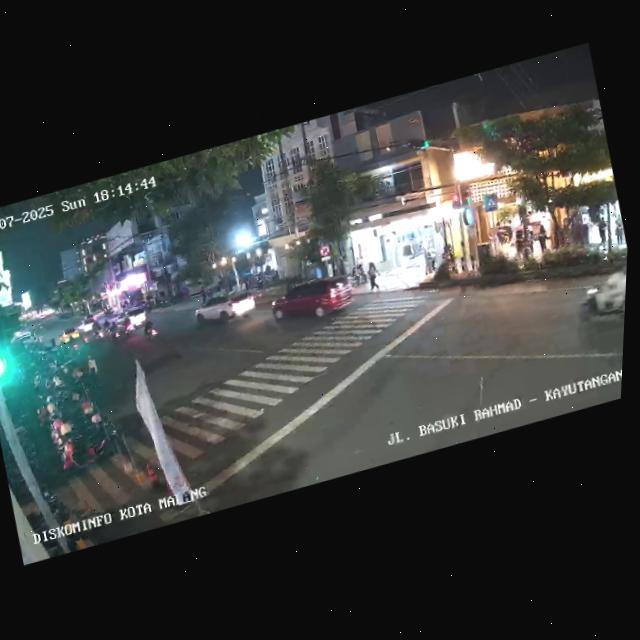car: (266, 267, 358, 336), (190, 280, 261, 335), (125, 303, 149, 328)
motorcycle: (567, 263, 627, 339), (140, 314, 162, 344), (119, 312, 138, 340), (106, 318, 125, 346)
person: (82, 354, 106, 392), (532, 220, 553, 258), (362, 259, 383, 294), (594, 214, 613, 252), (610, 212, 627, 247)
